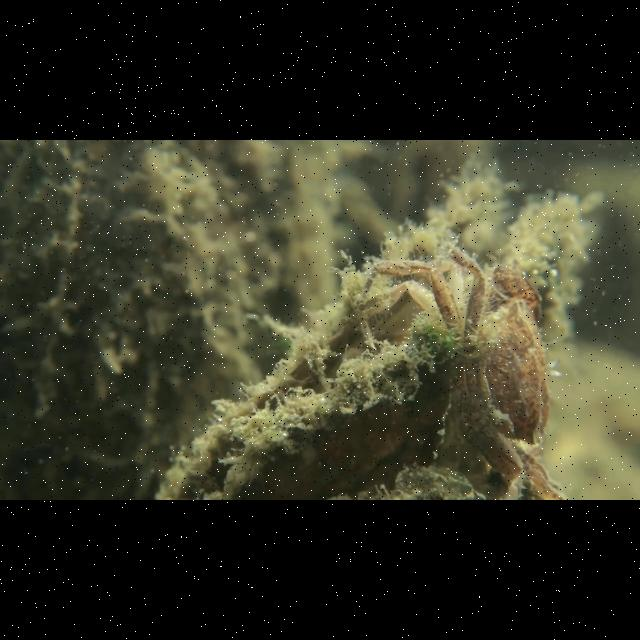Oyster-Open: (155, 222, 471, 500)
